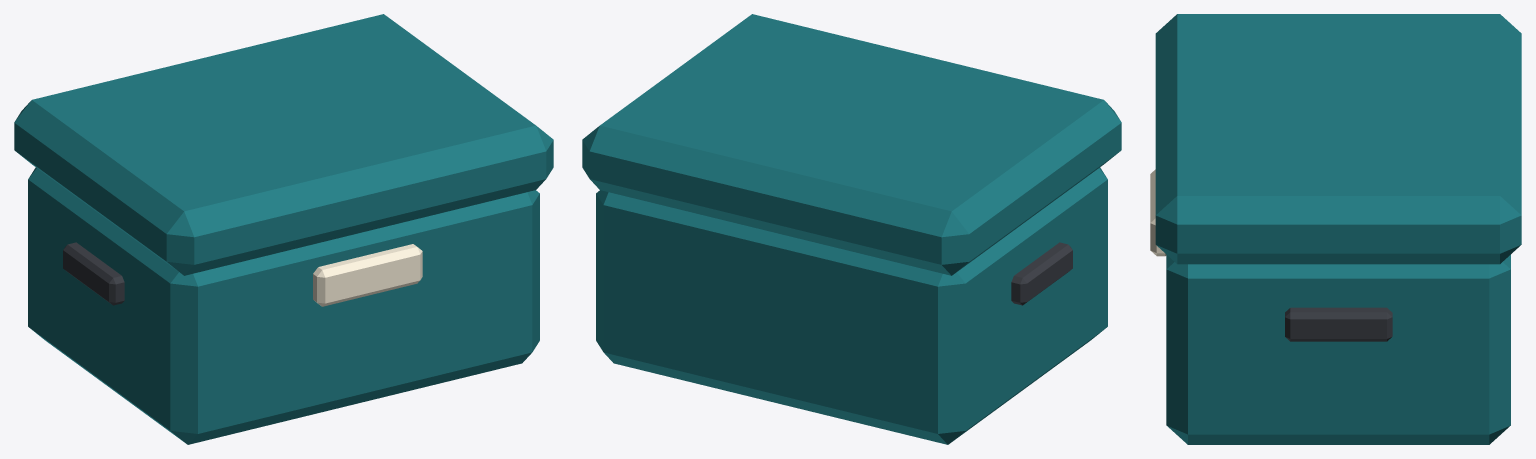
File: storage_box.glb
The picture shows the model from 3 angles, left to right: view 1: azimuth 30°, elevation 25°; view 2: azimuth 150°, elevation 25°; view 3: azimuth 270°, elevation 25°; orthographic projection. The views are drawn at different scales.
Visible parts, largest first — view 1: storage_box; view 2: storage_box; view 3: storage_box.
Part boxes in pixels (x1,y1,x2,y2): storage_box: [14, 14, 553, 444]; storage_box: [582, 14, 1121, 444]; storage_box: [1150, 14, 1521, 444].
Size of the model in its own units: 0.45 by 0.26 by 0.345.
